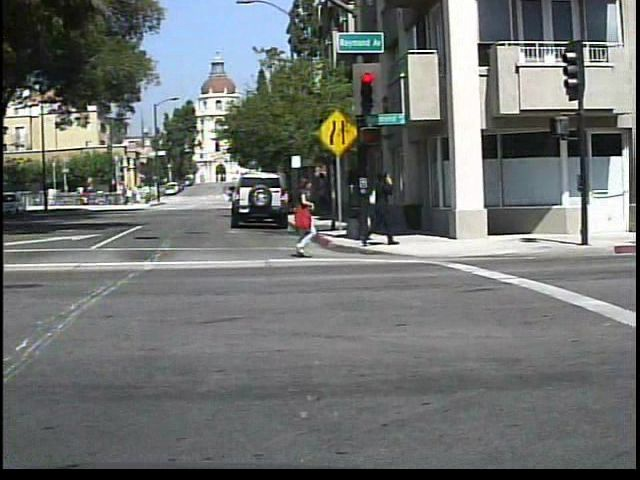person: (362, 162, 406, 248), (291, 172, 328, 260)
